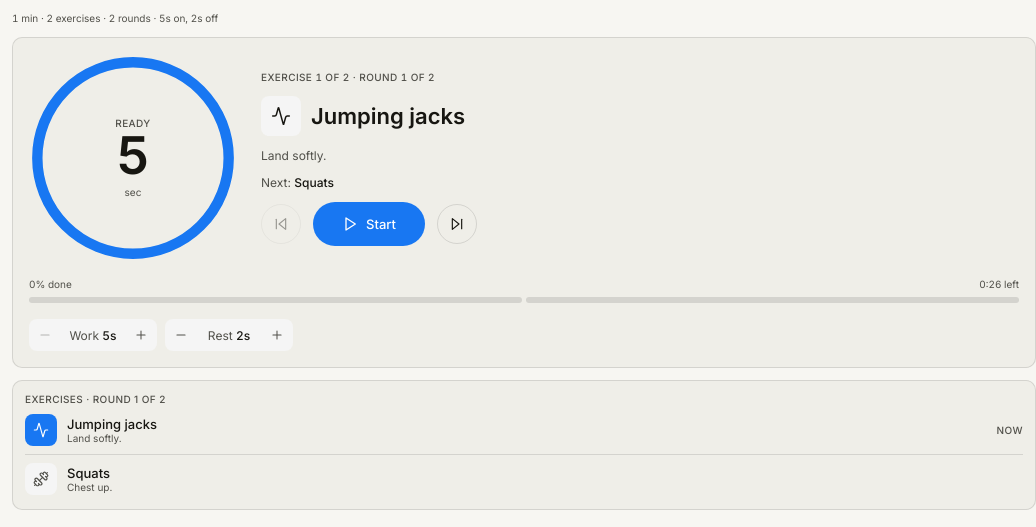
Test: interval-workout: the timer › next and back skip to exercises (not rests), running or paused
The width and height of the screenshot is (1036, 527).
Click the button named "Next exercise": point(457, 224) [437, 204, 477, 244]
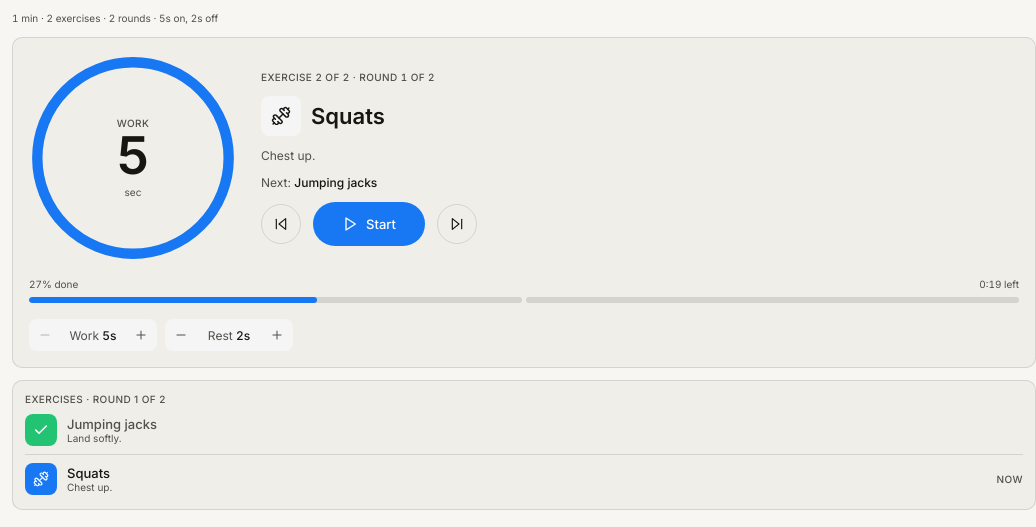
Click the button "Start": point(369, 224) [313, 202, 425, 246]
Wait 1000 ms
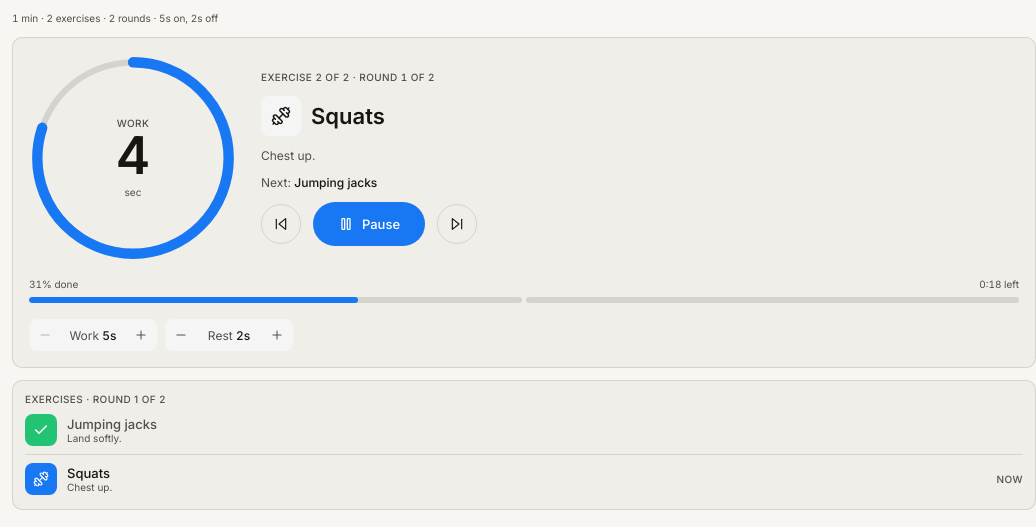
Click the button named "Previous exercise": point(281, 224) [261, 204, 301, 244]
Wait 1000 ms
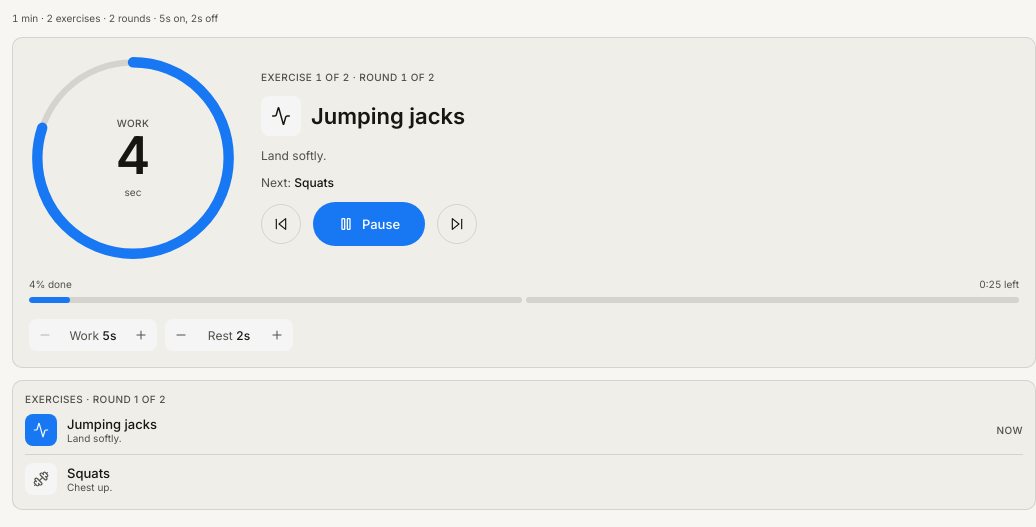
Click the button "Squats Chest up.": point(41, 479) [25, 455, 1023, 503]
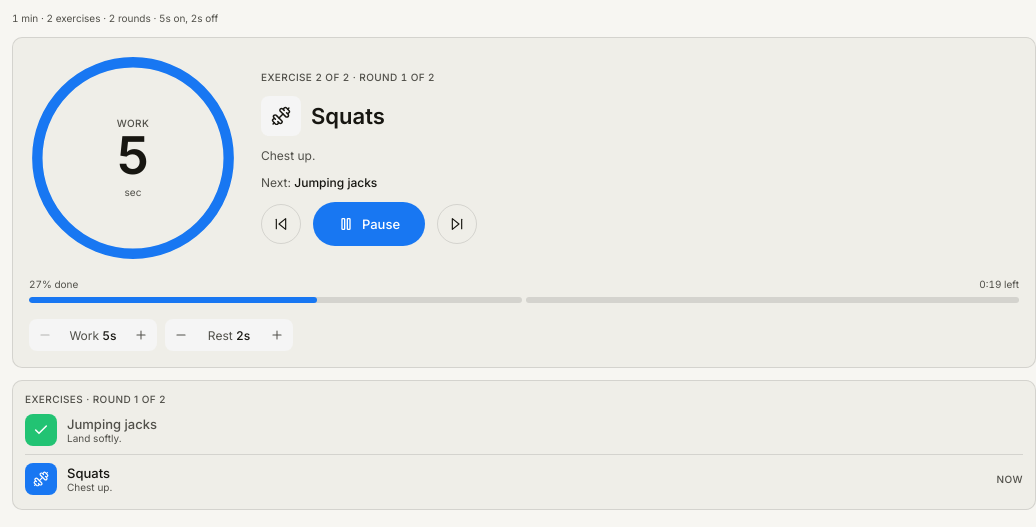
Result: the heading "Squats" is shown at [311, 102, 385, 130]
